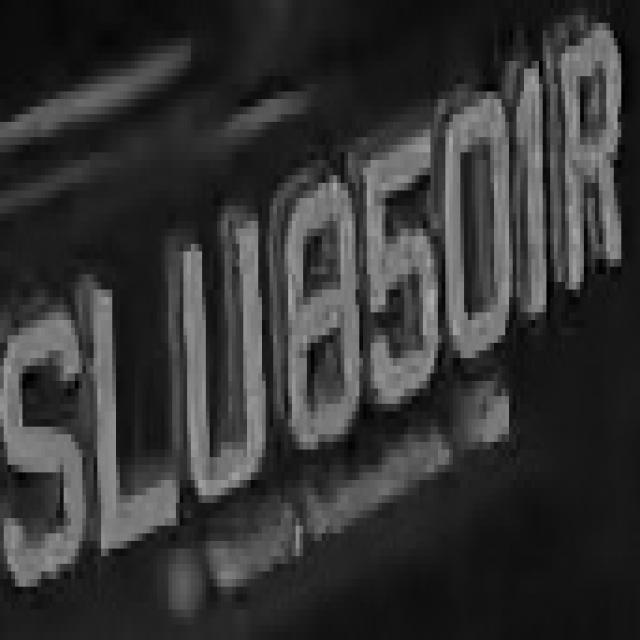0: (438, 84, 524, 366)
1: (502, 38, 562, 335)
5: (352, 122, 438, 411)
8: (270, 183, 370, 495)
L: (90, 259, 187, 556)
R: (558, 15, 625, 297)
S: (18, 290, 94, 610)
U: (165, 190, 273, 510)
